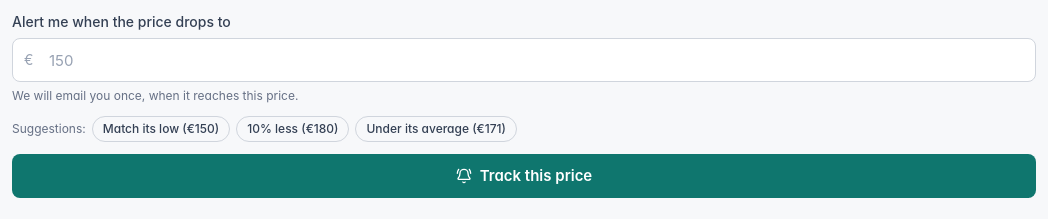
it: TargetPriceForm › refuses a target at or above the current price, and says why
The image size is (1048, 219).
Type "250" into the field labelled "Alert me when the price drops to". click: [524, 60]
box: left=12, top=38, right=1036, bottom=82
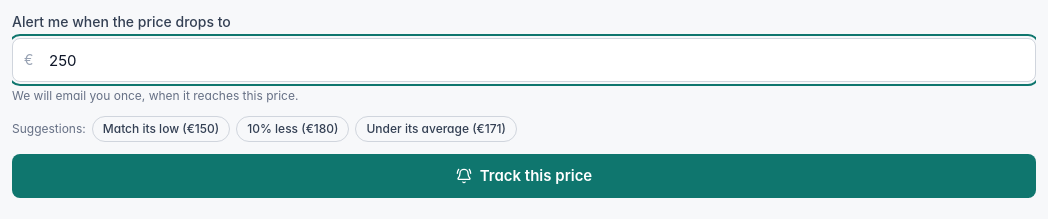
Click the button "Track this price". click: [524, 176]
box: left=12, top=154, right=1036, bottom=198
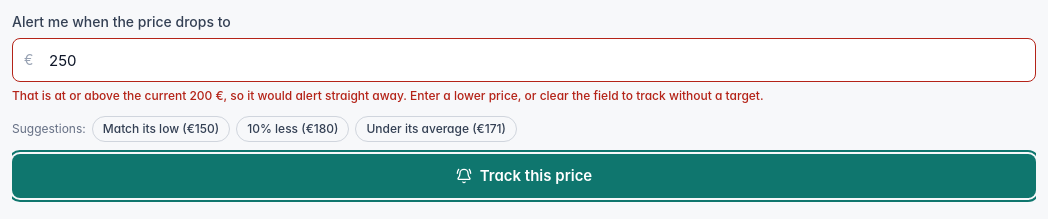
Now the message shows "at or above the current", box left=12, top=88, right=764, bottom=103
